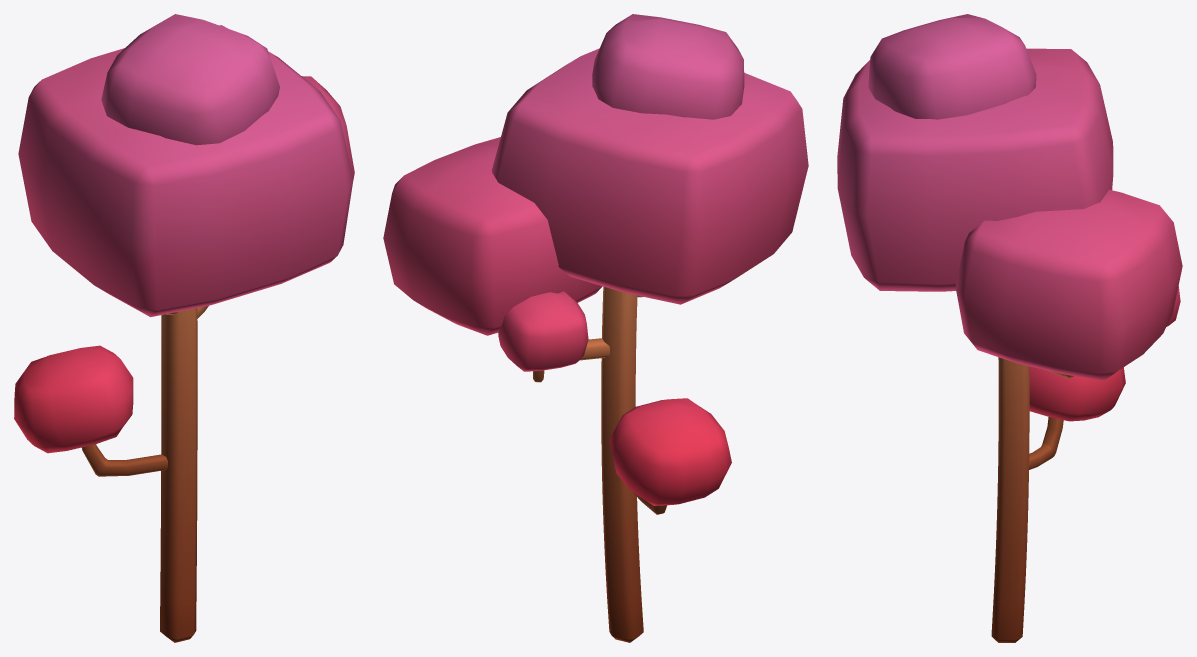
Rendered from BirchTree.fbx.
3 renders of one model, left to right at view 1: azimuth 30°, elevation 25°; view 2: azimuth 150°, elevation 25°; view 3: azimuth 270°, elevation 25°, orthographic. The views are drawn at different scales.
Visible parts, largest first — view 1: BirchTree; view 2: BirchTree; view 3: BirchTree.
Part boxes in pixels (x1,y1,x2,y2): BirchTree: (14,14,354,642); BirchTree: (383,14,808,642); BirchTree: (837,14,1182,642).
Size of the model in its own units: 526 by 937 by 483.
